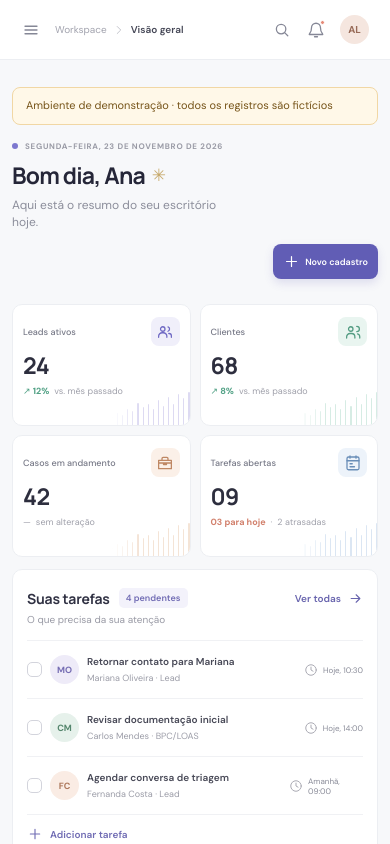
Test case: Rotas › 'Ver todas' das tarefas leva à rota de tarefas
Click the link "Ver todas": {"x": 329, "y": 599} left=295, top=588, right=363, bottom=610
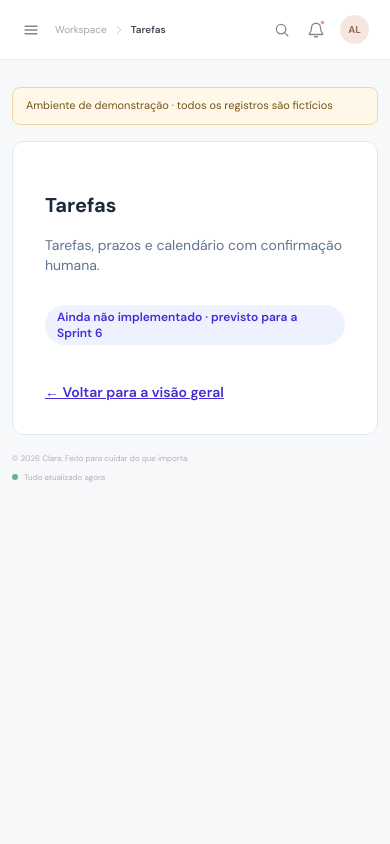
Expected: the heading "Tarefas" is shown, left=45, top=192, right=116, bottom=218
